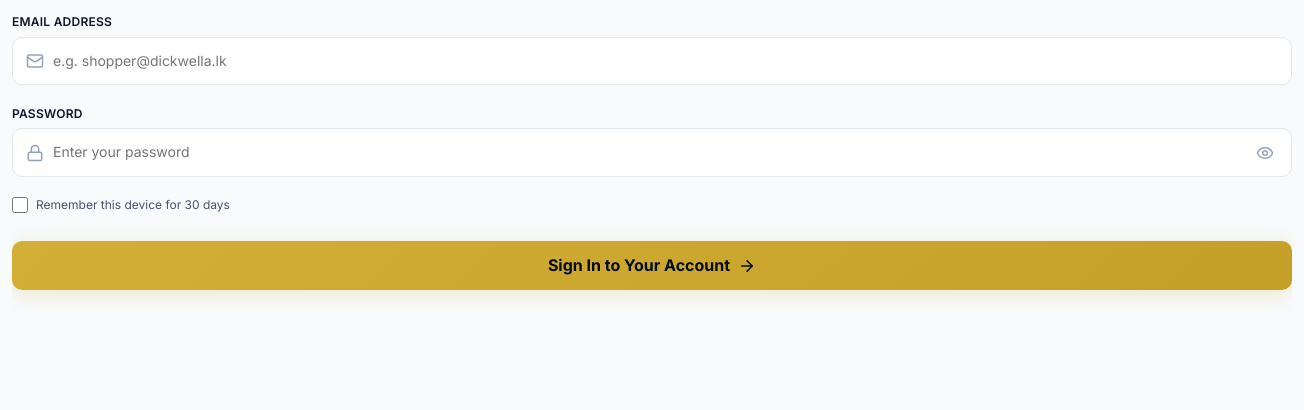
Test case: STORM-FE-013: Customer Authentication Modal with Lockout Countdown & Password Visibility › DEV-179: Account Lockout Countdown & API Auth Flow › disables login button and displays lockout banner on HTTP 423 Locked response
Type "test@dickwella.lk" into the field with test id "input-login-email" at point(652, 61), box [12,37,1292,85]
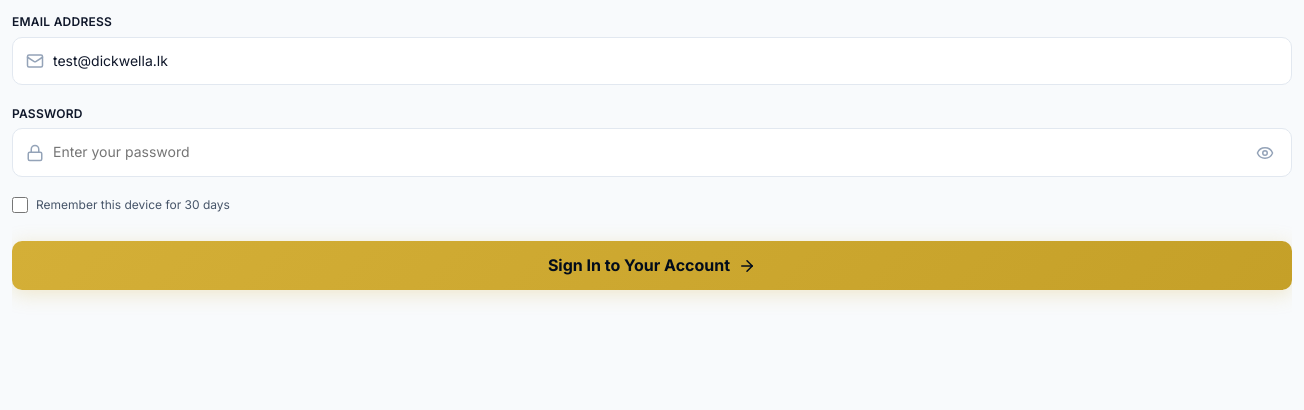
Type "wrongpassword" into the password field with test id "input-login-password" at point(652, 152), box [12,128,1292,177]
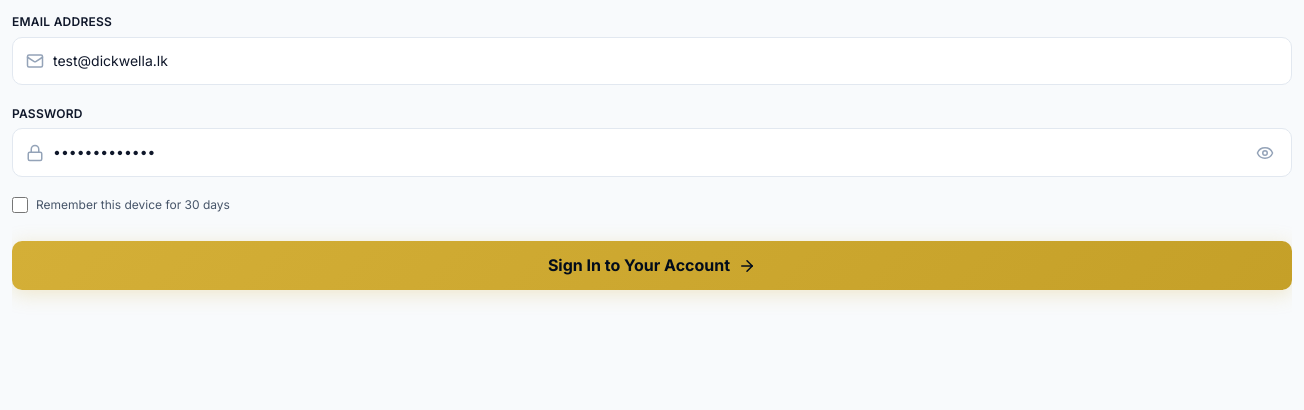
Click the button with test id "login-submit-btn" at point(652, 266), box [12,241,1292,290]
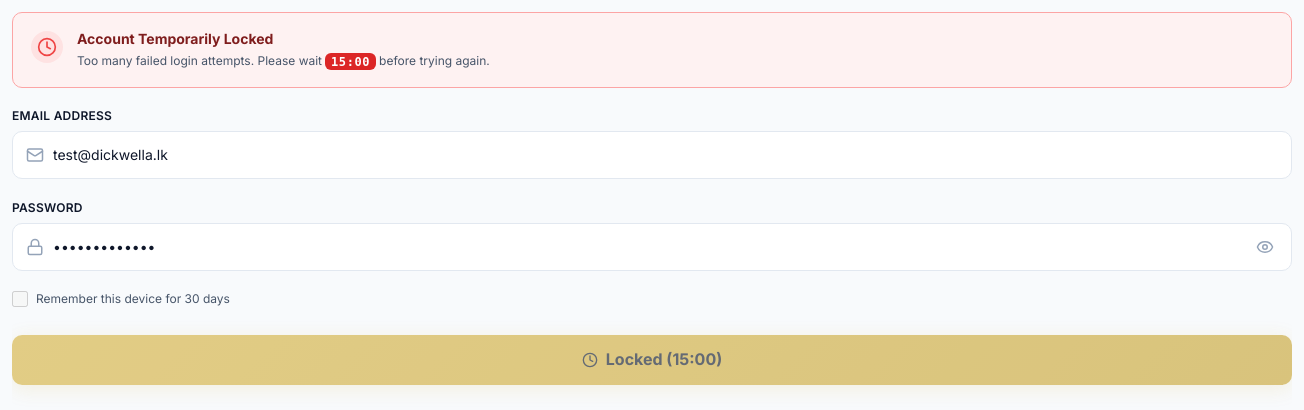
expect the message with test id "lockout-countdown-banner" is shown: met, box [12,12,1292,88]
expect the text with test id "lockout-clock" reads "15:00": met, box [331,54,370,68]
expect the button with test id "login-submit-btn" is disabled: met, box [12,335,1292,385]
